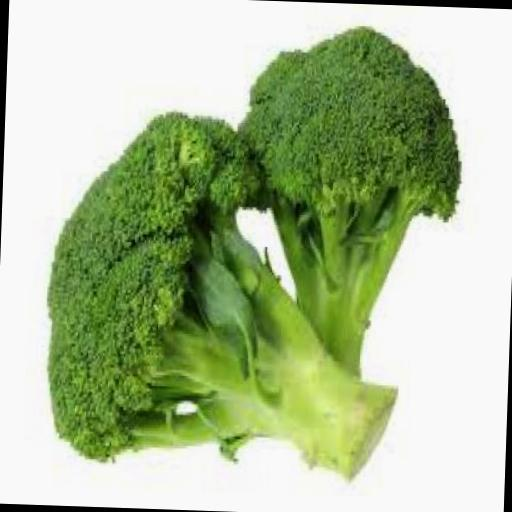biodegradable: (40, 105, 404, 478), (221, 19, 462, 376)
